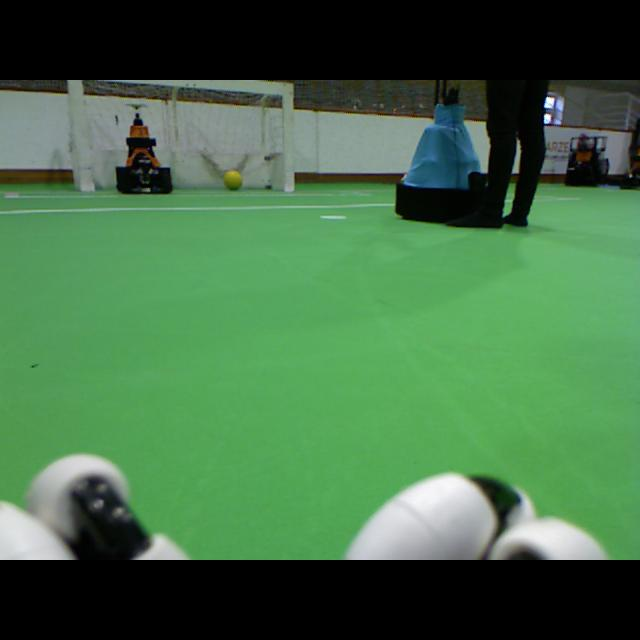ball: (224, 170, 242, 190)
goal: (68, 80, 94, 191), (282, 83, 294, 191)
robot: (114, 103, 173, 195), (565, 135, 606, 188), (623, 141, 639, 189)
